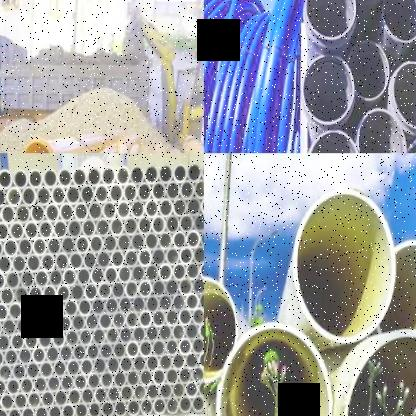pipe: (293, 187, 396, 343), (218, 322, 334, 416), (345, 329, 416, 416), (375, 240, 416, 346), (303, 54, 354, 126), (204, 276, 237, 383), (347, 40, 390, 101), (357, 109, 407, 153), (304, 0, 354, 39), (392, 61, 416, 130), (382, 0, 416, 41), (307, 130, 361, 154), (22, 141, 54, 153), (15, 202, 31, 224), (36, 184, 52, 206), (21, 185, 37, 207), (87, 200, 103, 221), (32, 236, 48, 257), (3, 237, 19, 258), (11, 253, 27, 274), (86, 166, 102, 187), (57, 167, 73, 188), (94, 183, 110, 204), (102, 199, 117, 221), (13, 168, 28, 190), (80, 183, 95, 205), (51, 184, 66, 206), (5, 270, 21, 290), (129, 165, 145, 185), (116, 199, 131, 220), (59, 201, 74, 222), (31, 202, 46, 223), (1, 203, 16, 224), (53, 218, 68, 239), (39, 219, 54, 240), (24, 219, 39, 240), (9, 221, 24, 242), (172, 229, 187, 250), (61, 234, 76, 255), (187, 162, 202, 183), (144, 164, 159, 185), (72, 167, 87, 188), (28, 168, 43, 189), (123, 182, 138, 203), (66, 184, 81, 205), (7, 186, 22, 207), (109, 182, 123, 204), (54, 252, 70, 271), (130, 199, 145, 219), (45, 202, 60, 222), (186, 229, 201, 249), (158, 230, 173, 250), (47, 236, 62, 256), (18, 237, 33, 257), (124, 248, 139, 268), (26, 253, 41, 273), (20, 269, 35, 289), (111, 280, 126, 300), (56, 283, 71, 303), (8, 302, 23, 322), (2, 317, 17, 337), (10, 332, 25, 352), (32, 346, 47, 366), (66, 358, 81, 378), (158, 164, 173, 184), (101, 166, 116, 186), (43, 168, 58, 188), (180, 180, 195, 200), (187, 196, 201, 217), (159, 197, 173, 218), (145, 198, 159, 219), (152, 214, 166, 235), (82, 217, 96, 238), (90, 233, 104, 254), (152, 246, 166, 267), (116, 165, 130, 186), (166, 180, 180, 201), (110, 249, 125, 268), (172, 262, 187, 281), (117, 264, 132, 283), (152, 278, 167, 297), (70, 283, 85, 302), (42, 284, 57, 303), (28, 285, 43, 304), (171, 293, 186, 312), (145, 294, 160, 313), (91, 297, 106, 316), (50, 299, 65, 318), (36, 300, 51, 319), (30, 316, 45, 335), (92, 328, 107, 347), (4, 348, 19, 367), (132, 355, 147, 374), (39, 361, 54, 380), (139, 368, 154, 387), (33, 376, 48, 395), (6, 377, 21, 396), (173, 197, 187, 217), (74, 201, 88, 221), (166, 214, 180, 234), (138, 215, 152, 235), (110, 216, 124, 236), (96, 217, 110, 237), (68, 218, 82, 238), (145, 231, 159, 251), (117, 232, 131, 252), (103, 233, 117, 253), (76, 234, 90, 254), (166, 246, 180, 266), (97, 249, 111, 269), (69, 251, 83, 271), (41, 252, 55, 272), (77, 266, 91, 286), (63, 267, 77, 287), (98, 281, 112, 301), (23, 301, 37, 321), (17, 317, 31, 337), (52, 330, 66, 350), (38, 330, 52, 350), (46, 345, 60, 365), (119, 355, 133, 375), (173, 163, 187, 183), (152, 181, 166, 201), (138, 182, 152, 202), (158, 263, 173, 281), (131, 264, 146, 282), (165, 278, 180, 296), (138, 279, 153, 297), (131, 295, 146, 313), (165, 308, 180, 326), (152, 309, 167, 327), (138, 310, 153, 328), (98, 312, 113, 330), (65, 329, 80, 347), (151, 339, 166, 357), (158, 353, 173, 371), (12, 363, 27, 381), (165, 367, 180, 385), (152, 368, 167, 386), (126, 369, 141, 387), (40, 391, 55, 409), (13, 393, 28, 411), (180, 214, 194, 233), (124, 216, 138, 235), (131, 232, 145, 251), (83, 250, 97, 269), (186, 261, 200, 280), (145, 263, 159, 282), (104, 265, 118, 284), (91, 266, 105, 285), (49, 268, 63, 287), (35, 269, 49, 288), (84, 282, 98, 301), (14, 286, 28, 305), (0, 286, 14, 305), (64, 299, 78, 318), (179, 307, 193, 326), (112, 311, 126, 330), (85, 313, 99, 332), (58, 314, 72, 333), (44, 315, 58, 334), (132, 324, 146, 343), (79, 328, 93, 347), (24, 332, 38, 351), (165, 338, 179, 357), (126, 340, 140, 359), (73, 343, 87, 362), (59, 344, 73, 363), (18, 347, 32, 366), (80, 358, 94, 377), (113, 370, 127, 389), (87, 372, 101, 391), (74, 373, 88, 392), (47, 374, 61, 393), (81, 387, 95, 406), (27, 391, 41, 410), (0, 392, 14, 411), (180, 276, 193, 296), (61, 373, 74, 393), (171, 353, 186, 370), (100, 399, 115, 416), (192, 212, 204, 233), (138, 248, 152, 266), (125, 280, 139, 298), (118, 296, 132, 314), (105, 297, 119, 315), (78, 298, 92, 316), (71, 314, 85, 332), (185, 322, 199, 340), (172, 323, 186, 341), (145, 324, 159, 342), (119, 326, 133, 344), (106, 327, 120, 345), (178, 338, 192, 356), (139, 339, 153, 357), (99, 342, 113, 360), (185, 352, 199, 370), (146, 354, 160, 372), (26, 362, 40, 380), (190, 365, 204, 383), (178, 366, 192, 384), (100, 371, 114, 389), (20, 377, 34, 395), (133, 383, 147, 401), (120, 385, 134, 403), (107, 385, 121, 403), (54, 389, 68, 407), (0, 168, 12, 189), (180, 246, 193, 265), (159, 293, 172, 312), (191, 306, 204, 325), (159, 323, 172, 342), (113, 341, 126, 360), (107, 355, 120, 374), (93, 356, 106, 375), (53, 360, 66, 379), (146, 382, 159, 401), (94, 386, 107, 405), (68, 388, 81, 407), (191, 393, 204, 412), (193, 178, 204, 200), (192, 244, 204, 264), (0, 254, 12, 274), (113, 399, 127, 416), (186, 292, 199, 310), (126, 310, 139, 328), (191, 336, 204, 354), (87, 343, 100, 361), (159, 353, 172, 371), (153, 397, 166, 415), (127, 398, 140, 416), (192, 276, 204, 295), (173, 381, 185, 400), (140, 397, 152, 416), (74, 400, 88, 416), (88, 399, 101, 416), (0, 363, 12, 381), (186, 381, 198, 399), (160, 382, 172, 400), (180, 395, 192, 413), (167, 396, 179, 414), (61, 401, 74, 416), (0, 333, 10, 352), (0, 220, 9, 241), (47, 403, 61, 416), (20, 405, 35, 416), (34, 405, 48, 416), (0, 302, 8, 321), (7, 406, 21, 416), (0, 186, 6, 208), (0, 270, 6, 291), (0, 378, 7, 396), (198, 379, 204, 397), (198, 351, 204, 368), (199, 291, 204, 309), (199, 321, 204, 339), (0, 407, 9, 416), (200, 229, 204, 248), (200, 260, 204, 279), (0, 349, 4, 368), (201, 161, 204, 182), (201, 195, 204, 215), (0, 238, 3, 258), (0, 319, 2, 338)
